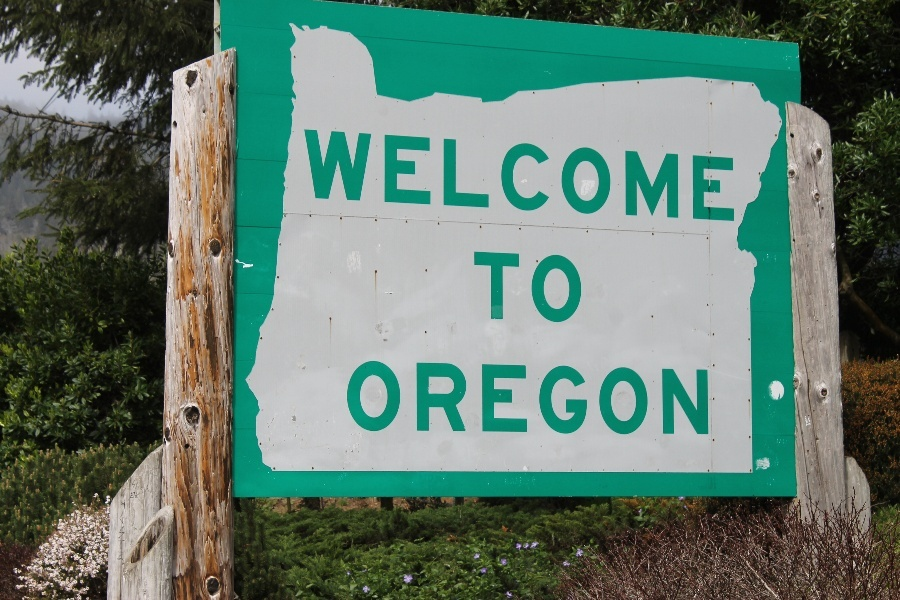text: (305, 129, 320, 222), (321, 129, 336, 222), (337, 129, 352, 222), (353, 129, 368, 222), (369, 129, 384, 222), (385, 129, 400, 222), (401, 129, 416, 222), (417, 129, 432, 222), (433, 129, 448, 222), (449, 129, 464, 222), (465, 129, 480, 222), (481, 129, 496, 222), (497, 129, 512, 222), (513, 129, 528, 222), (529, 129, 544, 222), (545, 129, 560, 222), (561, 129, 576, 222), (577, 129, 592, 222), (593, 129, 608, 222), (609, 129, 624, 222), (625, 129, 640, 222), (641, 129, 656, 222), (657, 129, 672, 222), (673, 129, 688, 222), (689, 129, 704, 222), (705, 129, 720, 222), (721, 129, 735, 222), (481, 250, 496, 325), (497, 250, 512, 325), (513, 250, 528, 325), (529, 250, 544, 325), (545, 250, 560, 325), (561, 250, 576, 325), (353, 361, 368, 436), (369, 361, 384, 436), (385, 361, 400, 436), (401, 361, 416, 436), (417, 361, 432, 436), (433, 361, 448, 436), (449, 361, 464, 436), (465, 361, 480, 436), (481, 361, 496, 436), (497, 361, 512, 436), (513, 361, 528, 436), (529, 361, 544, 436), (545, 361, 560, 436), (561, 361, 576, 436), (577, 361, 592, 436), (593, 361, 608, 436), (609, 361, 624, 436), (625, 361, 640, 436), (641, 361, 656, 436), (657, 361, 672, 436), (673, 361, 688, 436), (689, 361, 704, 436), (474, 250, 480, 325), (577, 250, 582, 325), (347, 361, 352, 436), (705, 361, 710, 436), (303, 129, 304, 222)
